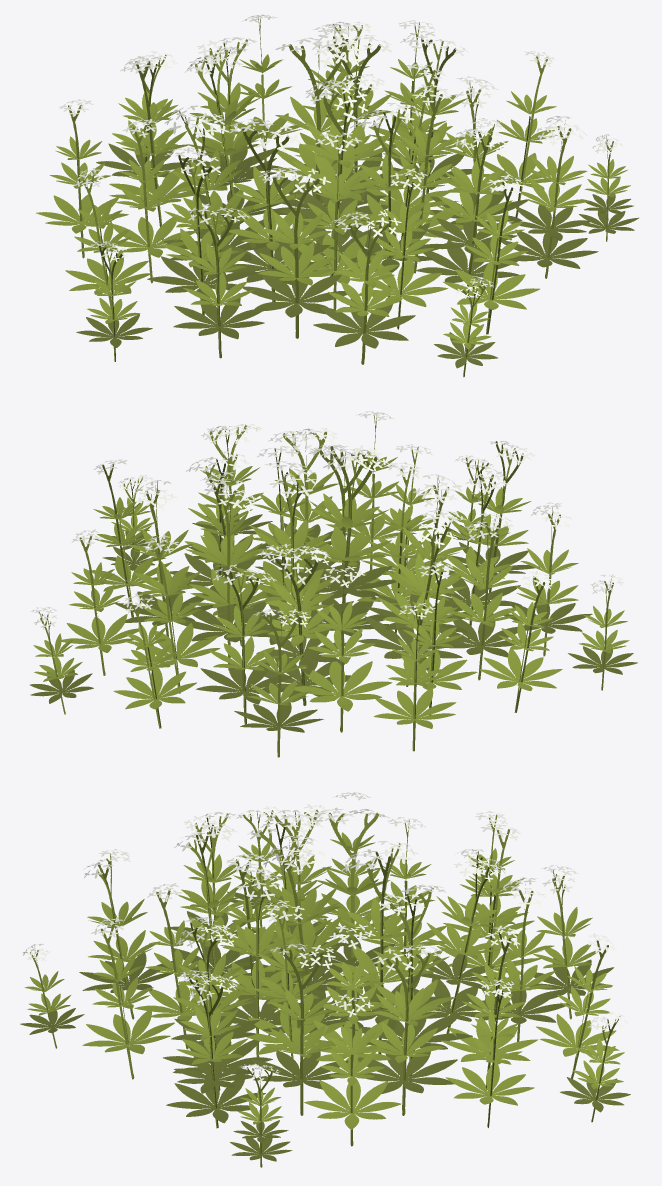
The model's file is Woodruff_Cluster_1.fbx.
3 views of the same model, one above another, from view 1: azimuth 30°, elevation 25°; view 2: azimuth 150°, elevation 25°; view 3: azimuth 270°, elevation 25° (orthographic). The views are drawn at different scales.
Parts seen in each view (by area): view 1: Woodruff_Cluster_1; view 2: Woodruff_Cluster_1; view 3: Woodruff_Cluster_1.
Part boxes in pixels (box(x1,y1,x2,y2)): Woodruff_Cluster_1: box(36, 14, 638, 377); Woodruff_Cluster_1: box(30, 411, 637, 757); Woodruff_Cluster_1: box(20, 792, 630, 1167).
Bounding box in the file's own units: 154 × 55.56 × 148.
1 material, 1 textured.
